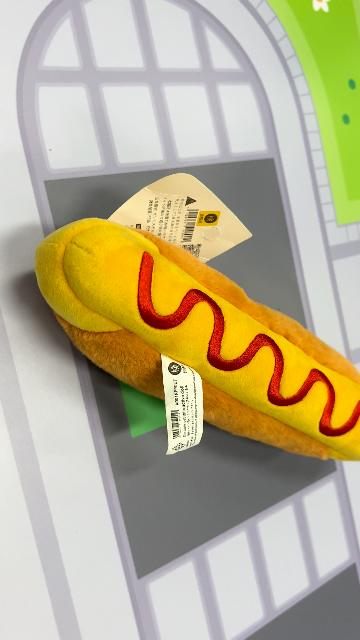hotdog: (33, 216, 358, 464)
